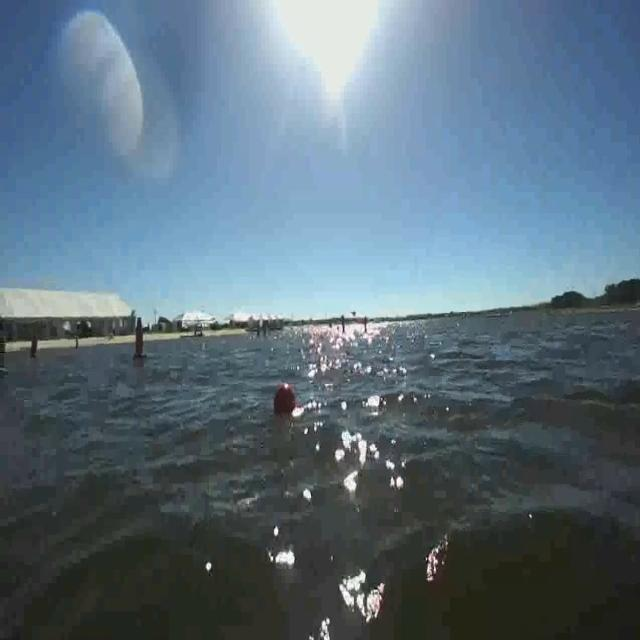green-column-buoy: (0, 336, 10, 376)
red-buoy: (273, 378, 298, 419)
red-column-buoy: (133, 318, 148, 364), (30, 336, 40, 361)
